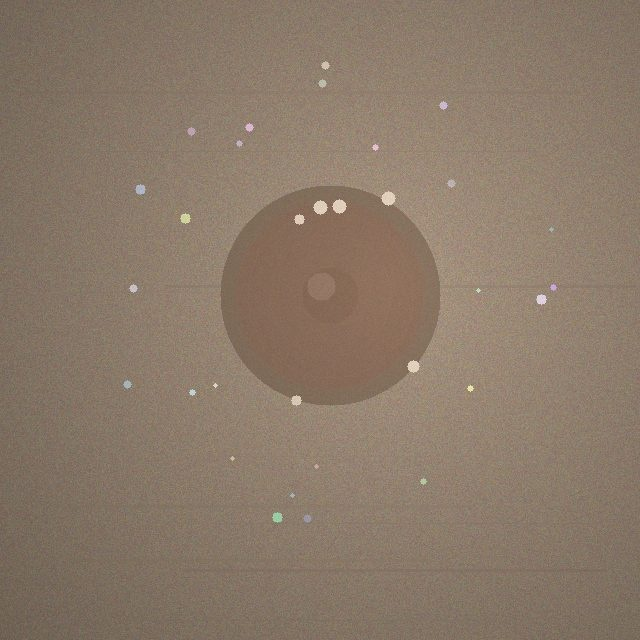overburn: (220, 185, 440, 405)
